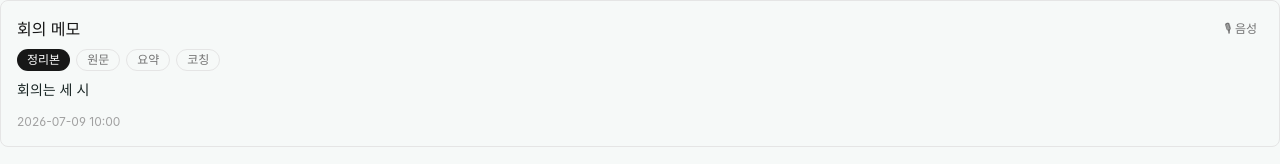
Test case: MemoCard 칩 전환 › 커스텀 변환본은 빌트인 칩 뒤에 오고 presetLabel로 표시된다
The width and height of the screenshot is (1280, 164).
Click the button "코칭" at (198, 60), box [176,49,220,71]
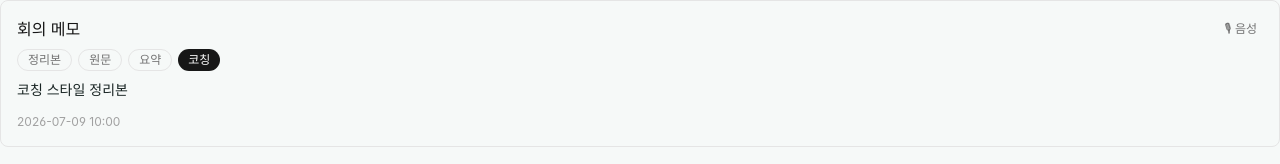
Expected: the text "코칭 스타일 정리본" is shown, [17,81,128,98]
